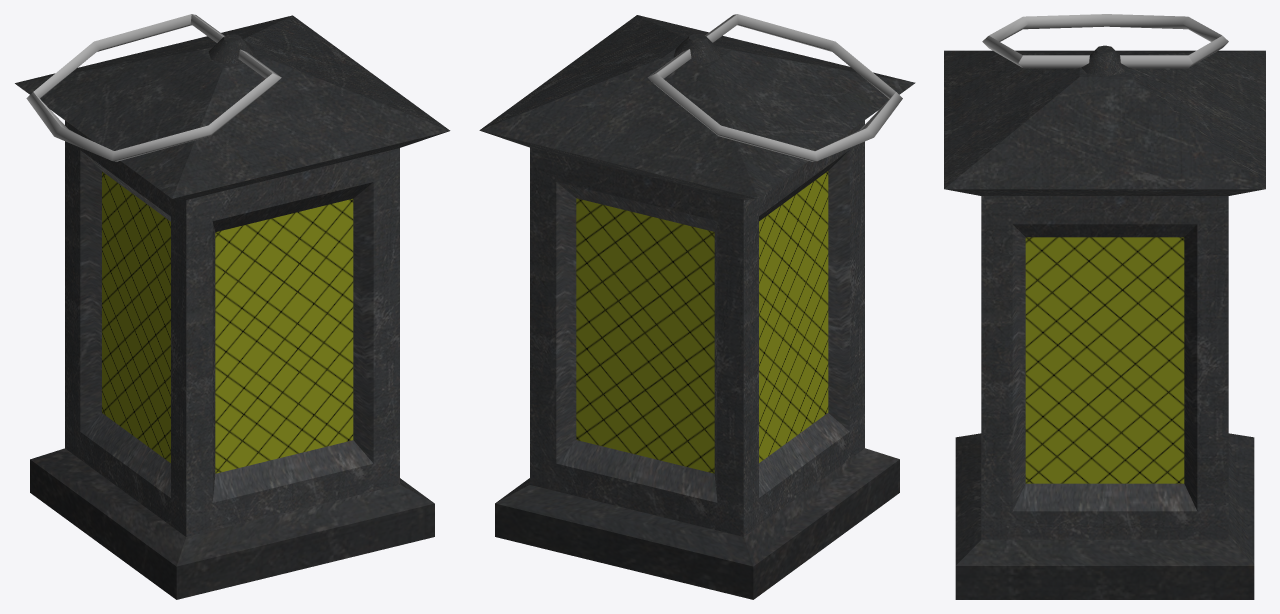
The model's file is SM_Lantern_HandleDOWN.fbx.
3 views of the same model, side by side, from view 1: azimuth 30°, elevation 25°; view 2: azimuth 150°, elevation 25°; view 3: azimuth 270°, elevation 25° (orthographic).
Parts seen in each view (by area): view 1: polySurface10; view 2: polySurface10; view 3: polySurface10.
Part boxes in pixels (bbox=[...]): polySurface10: bbox=[15, 14, 450, 599]; polySurface10: bbox=[479, 14, 915, 599]; polySurface10: bbox=[944, 14, 1265, 599].
Bounding box in the file's own units: 8.39 × 12.07 × 7.24.
